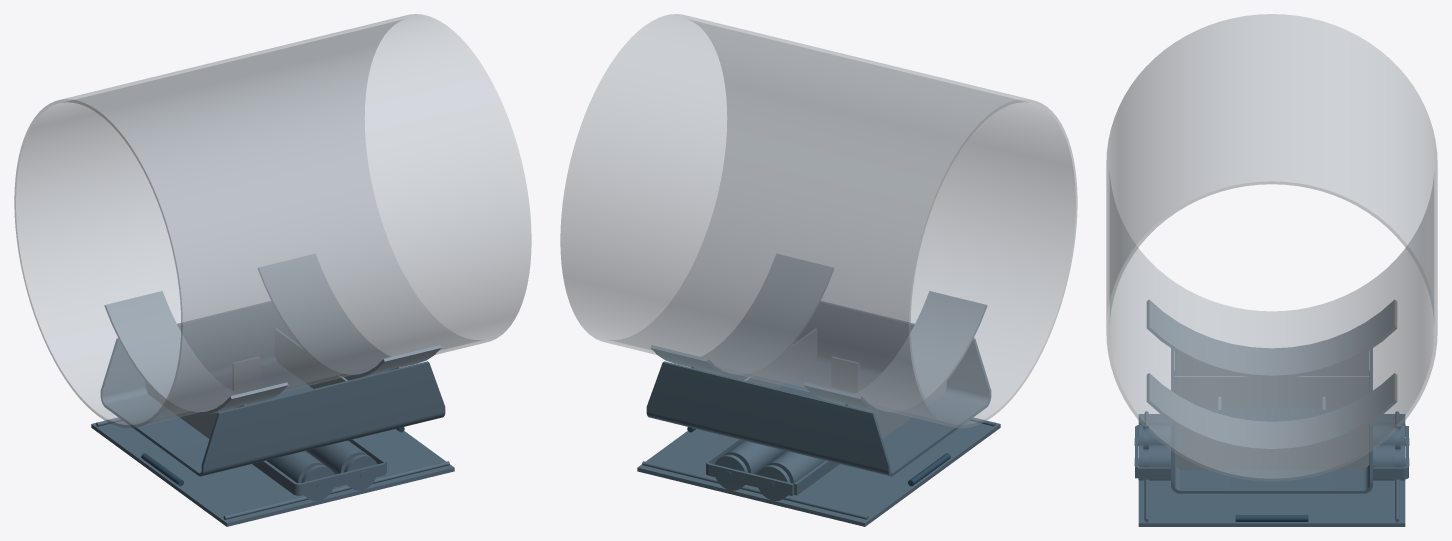
The model's file is TS-630.00.000-03-opora-dn820-hod800.glb.
3 views of the same model, side by side, from view 1: azimuth 30°, elevation 25°; view 2: azimuth 150°, elevation 25°; view 3: azimuth 270°, elevation 25° (orthographic).
Visible parts, largest first — view 1: truba, o624_skoba_9, plita_osnovanie_0, o624_podushka_14, o624_podushka_15, o624_rebro4_13, obojma_ugolnik_7, obojma_katok_5, obojma_katok_6, rebro630_16, plita_napravlyayushchaya_3, o624_rebro3_10; view 2: truba, o624_skoba_9, plita_osnovanie_0, o624_podushka_14, o624_podushka_15, o624_rebro4_13, obojma_katok_5, obojma_katok_6, obojma_ugolnik_8, rebro630_17, plita_napravlyayushchaya_1, o624_rebro3_10; view 3: truba, plita_osnovanie_0, o624_podushka_15, o624_podushka_14, o624_skoba_9, o624_rebro4_12, o624_rebro3_11, obojma_katok_5, obojma_katok_6, o624_rebro3_10, obojma_ugolnik_8, plita_upor_2.
Part boxes in pixels (box(x1,y1,x2,y2)): truba: box(14, 14, 531, 428); o624_skoba_9: box(100, 301, 445, 476); plita_osnovanie_0: box(91, 420, 454, 526); o624_podushka_14: box(104, 291, 288, 415); o624_podushka_15: box(258, 254, 441, 377); o624_rebro4_13: box(275, 329, 347, 388); obojma_ugolnik_7: box(252, 460, 385, 495); obojma_katok_5: box(306, 440, 376, 490); obojma_katok_6: box(266, 451, 334, 500); rebro630_16: box(232, 356, 260, 392); plita_napravlyayushchaya_3: box(223, 461, 449, 519); o624_rebro3_10: box(145, 381, 246, 438); truba: box(560, 14, 1077, 428); o624_skoba_9: box(646, 301, 991, 476); plita_osnovanie_0: box(637, 420, 1000, 526); o624_podushka_14: box(803, 291, 987, 415); o624_podushka_15: box(650, 254, 833, 377); o624_rebro4_13: box(744, 329, 816, 388); obojma_katok_5: box(715, 440, 785, 490); obojma_katok_6: box(757, 451, 825, 500); obojma_ugolnik_8: box(706, 439, 793, 495); rebro630_17: box(831, 356, 859, 392); plita_napravlyayushchaya_1: box(642, 461, 868, 519); o624_rebro3_10: box(845, 381, 946, 438); truba: box(1106, 14, 1437, 481); plita_osnovanie_0: box(1138, 414, 1405, 526); o624_podushka_15: box(1146, 373, 1397, 451); o624_podushka_14: box(1146, 299, 1397, 378); o624_skoba_9: box(1171, 348, 1372, 493); o624_rebro4_12: box(1174, 376, 1369, 408); o624_rebro3_11: box(1174, 424, 1369, 470); obojma_katok_5: box(1134, 444, 1409, 480); obojma_katok_6: box(1134, 423, 1409, 448); o624_rebro3_10: box(1174, 351, 1369, 375); obojma_ugolnik_8: box(1138, 426, 1408, 479); plita_upor_2: box(1235, 515, 1308, 521).
Bounding box in the file's own units: 980 × 1023 × 820.
